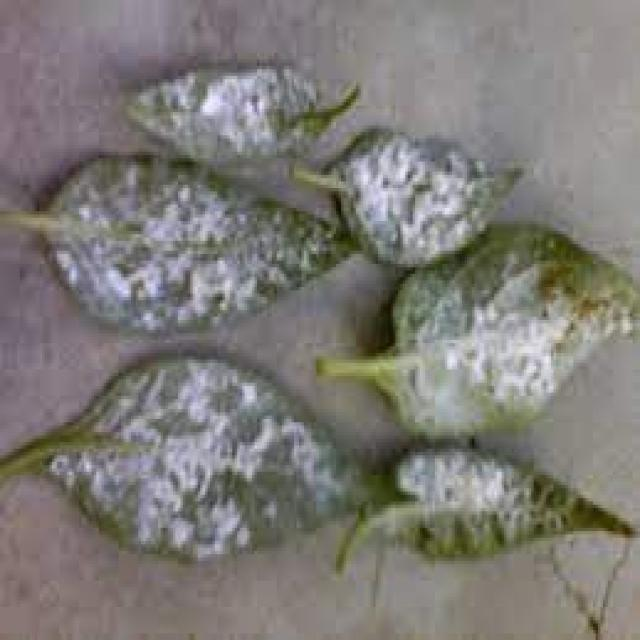Pestalotiopsis: (37, 146, 331, 347), (64, 369, 325, 548), (401, 230, 618, 415), (142, 59, 341, 180), (387, 436, 553, 564), (324, 118, 477, 250)
